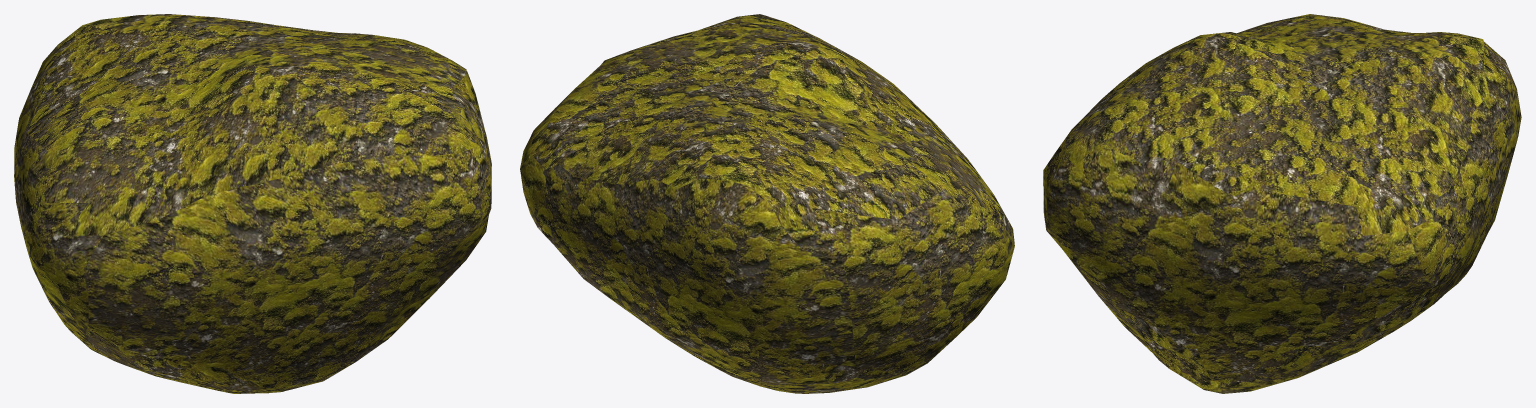
Rendered from Rock1.glb.
3 views of the same model, side by side, from view 1: azimuth 30°, elevation 25°; view 2: azimuth 150°, elevation 25°; view 3: azimuth 270°, elevation 25° (orthographic). The views are drawn at different scales.
Visible parts, largest first — view 1: Sphere; view 2: Sphere; view 3: Sphere.
Part boxes in pixels (x1,y1,x2,y2): Sphere: (14,14,491,393); Sphere: (520,14,1014,393); Sphere: (1043,14,1521,393).
Size of the model in its own units: 3.73 by 2.67 by 3.38.
Materials: 1 (1 with a texture image).
